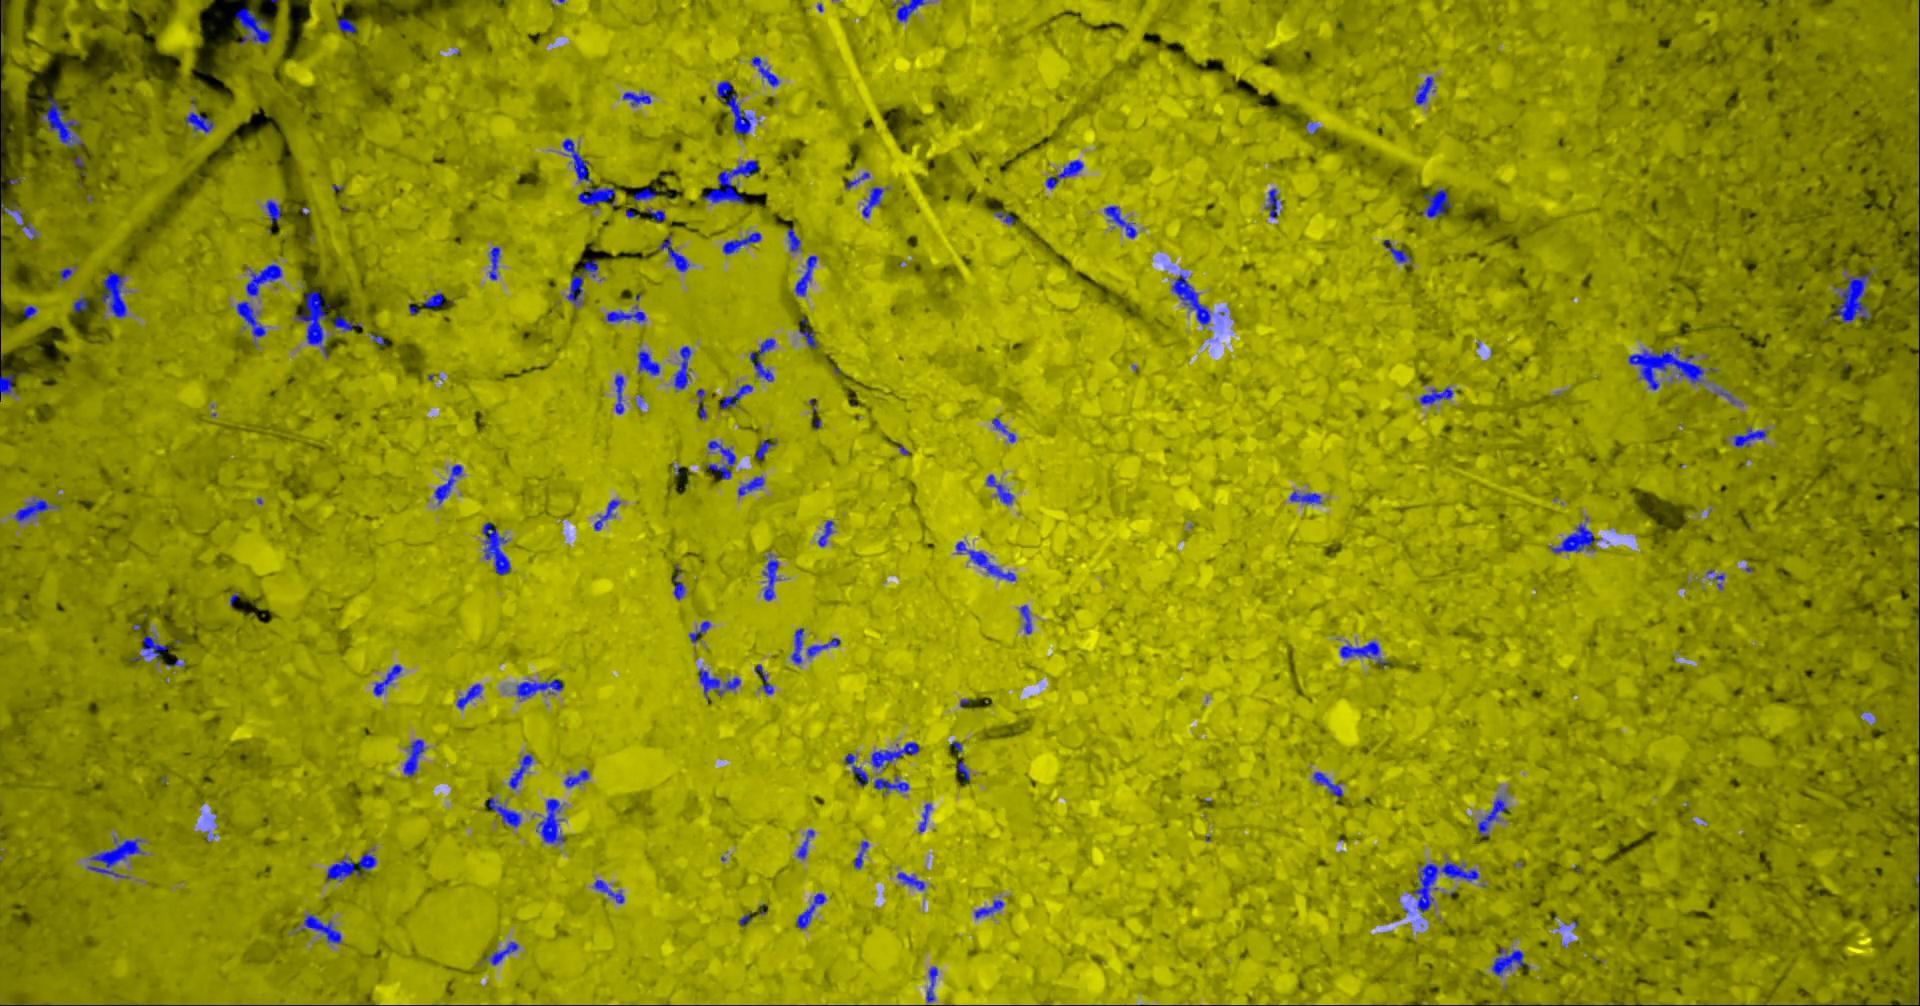ant: (1413, 861, 1478, 911), (700, 160, 758, 203), (955, 541, 1015, 580), (295, 290, 329, 357), (39, 95, 83, 147), (1829, 271, 1870, 323), (86, 838, 143, 876), (1170, 274, 1210, 325), (715, 80, 752, 133), (326, 850, 376, 882), (1548, 523, 1601, 553), (483, 522, 510, 575), (234, 6, 270, 44), (566, 259, 597, 305), (870, 741, 919, 768), (1477, 796, 1507, 841), (535, 798, 564, 843), (1338, 641, 1387, 668), (698, 667, 740, 696), (563, 138, 590, 182), (300, 915, 342, 942), (100, 272, 126, 318), (434, 464, 462, 504), (658, 235, 690, 271), (484, 796, 521, 827), (1045, 159, 1083, 188), (236, 301, 265, 339), (707, 439, 735, 479), (749, 338, 775, 381), (1103, 205, 1137, 238), (245, 264, 281, 295), (795, 893, 825, 929), (1491, 948, 1529, 976), (516, 678, 563, 700), (130, 635, 168, 661), (794, 255, 817, 296), (1421, 188, 1451, 217), (372, 664, 401, 695), (750, 56, 778, 86), (985, 474, 1013, 504), (723, 231, 759, 254), (719, 384, 752, 409), (14, 499, 52, 521), (593, 499, 620, 530), (483, 941, 518, 964), (508, 754, 532, 788), (403, 739, 424, 776), (762, 553, 778, 600), (1312, 771, 1342, 796), (891, 0, 927, 22), (673, 345, 690, 391), (593, 879, 623, 903), (577, 187, 615, 206), (844, 753, 867, 785), (604, 305, 645, 323), (455, 683, 483, 709), (1733, 427, 1768, 447), (861, 185, 883, 217), (183, 111, 213, 132), (806, 636, 841, 655), (1382, 239, 1410, 262), (872, 775, 908, 793), (990, 417, 1015, 442), (1418, 386, 1451, 404), (797, 318, 817, 348), (754, 664, 773, 694), (974, 899, 1003, 918), (1263, 188, 1281, 218), (1415, 76, 1434, 104), (737, 476, 764, 495), (637, 351, 659, 375), (563, 768, 589, 788), (670, 564, 684, 600), (796, 829, 814, 857), (897, 873, 924, 890), (688, 620, 710, 641), (331, 316, 362, 332), (790, 627, 803, 663), (924, 967, 937, 1002), (817, 520, 833, 546), (632, 187, 667, 199), (853, 841, 869, 869), (844, 171, 869, 188), (622, 91, 650, 105), (754, 439, 775, 459), (488, 246, 499, 279), (1289, 492, 1322, 503), (0, 202, 22, 218), (1018, 605, 1031, 633), (918, 803, 931, 831), (615, 373, 623, 413), (265, 199, 279, 222), (423, 292, 443, 307), (0, 373, 15, 394), (787, 227, 800, 251), (337, 18, 356, 33), (645, 208, 665, 222), (956, 760, 969, 780), (72, 296, 88, 312), (996, 211, 1013, 224), (738, 912, 753, 926), (22, 305, 36, 318), (58, 267, 71, 279)
